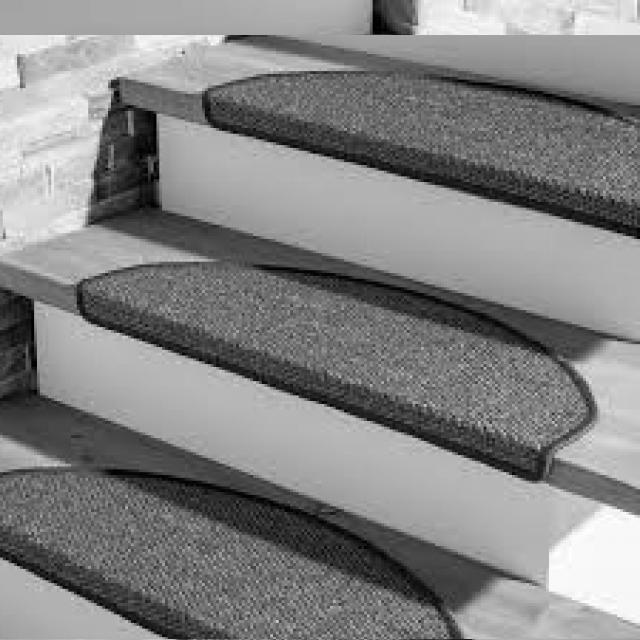stair: (0, 35, 640, 640)
